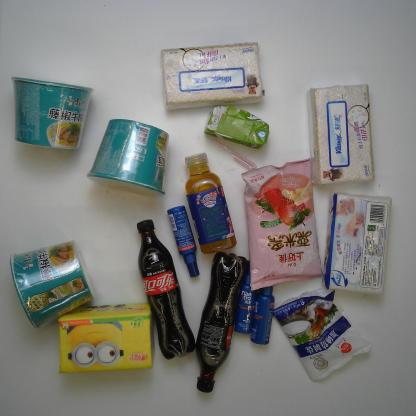Drink: (134, 218, 196, 358), (196, 252, 249, 391), (184, 152, 236, 253)
Instant Noodles: (8, 240, 92, 332), (9, 72, 94, 151), (86, 117, 171, 196)
Milk: (202, 102, 272, 170)
Personal Hygiene: (167, 205, 201, 278), (250, 282, 284, 346), (234, 272, 257, 335)
Puffed Food: (242, 160, 326, 290)
Seasoner: (274, 286, 371, 381)
Tissue: (320, 191, 392, 293), (58, 300, 155, 374), (307, 82, 377, 184), (157, 43, 264, 109)
